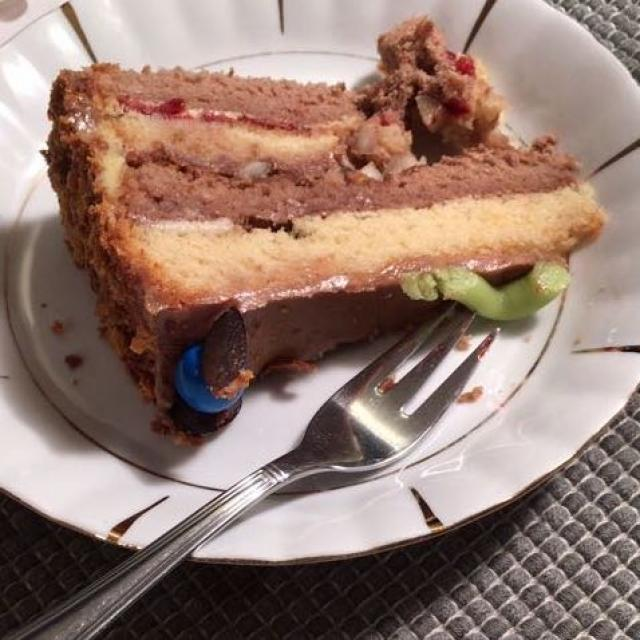tart: (57, 27, 598, 413)
